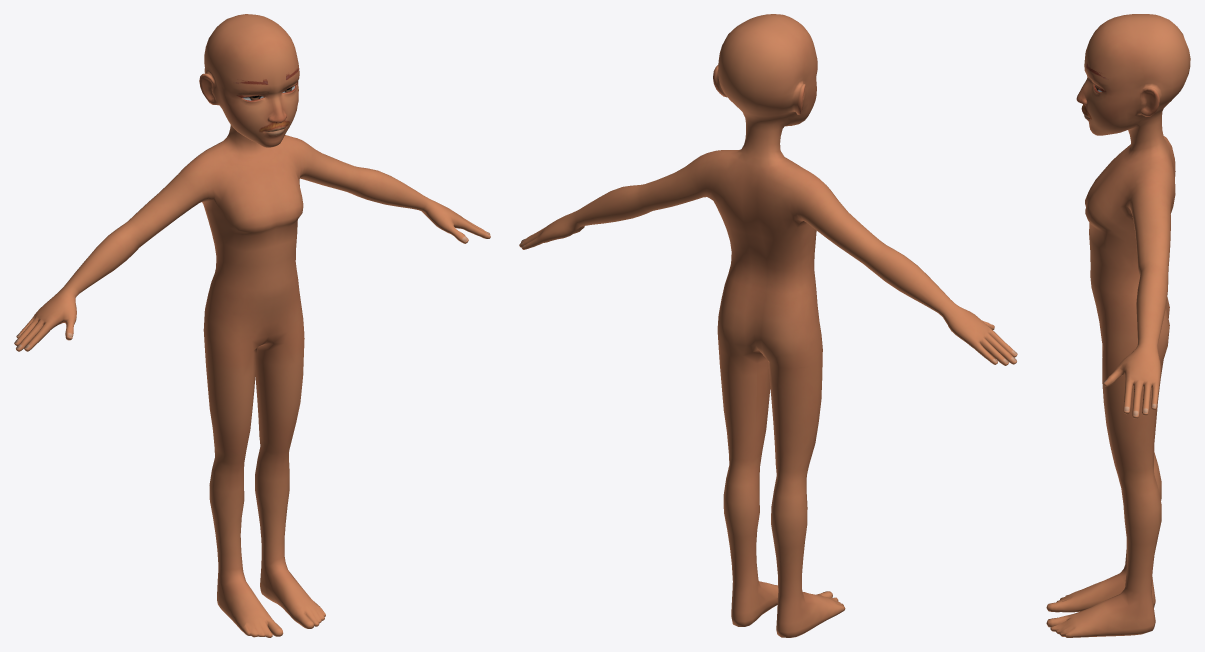
The model's file is frame_0033.glb.
3 renders of one model, left to right at view 1: azimuth 30°, elevation 25°; view 2: azimuth 150°, elevation 25°; view 3: azimuth 270°, elevation 25°, orthographic. The views are drawn at different scales.
Parts seen in each view (by area): view 1: frame_0033_head_geo; view 2: frame_0033_head_geo; view 3: frame_0033_head_geo.
Boxes of the visible parts, x1=… form: frame_0033_head_geo: x1=14, y1=14, x2=490, y2=637; frame_0033_head_geo: x1=519, y1=14, x2=1017, y2=637; frame_0033_head_geo: x1=1046, y1=14, x2=1190, y2=637.
Size of the model in its own units: 1.28 by 1.5 by 0.3253.
Materials: 3 (3 with a texture image).
